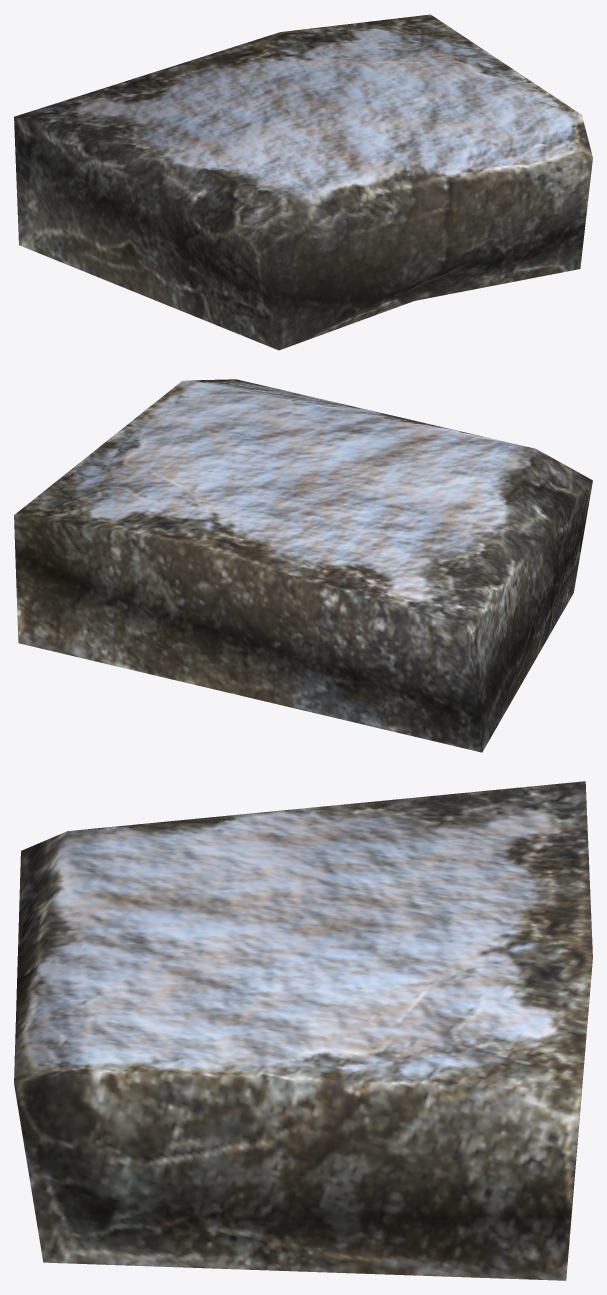
Rendered from Staits1E_LOD.fbx.
3 renders of one model, top to bottom at view 1: azimuth 30°, elevation 25°; view 2: azimuth 150°, elevation 25°; view 3: azimuth 270°, elevation 25°, orthographic. The views are drawn at different scales.
Parts seen in each view (by area): view 1: polySurface28; view 2: polySurface28; view 3: polySurface28.
Part boxes in pixels (x1,y1,x2,y2): polySurface28: [14, 14, 592, 350]; polySurface28: [14, 379, 592, 752]; polySurface28: [14, 781, 592, 1280].
Bounding box in the file's own units: 2.05 × 0.6345 × 1.55.
